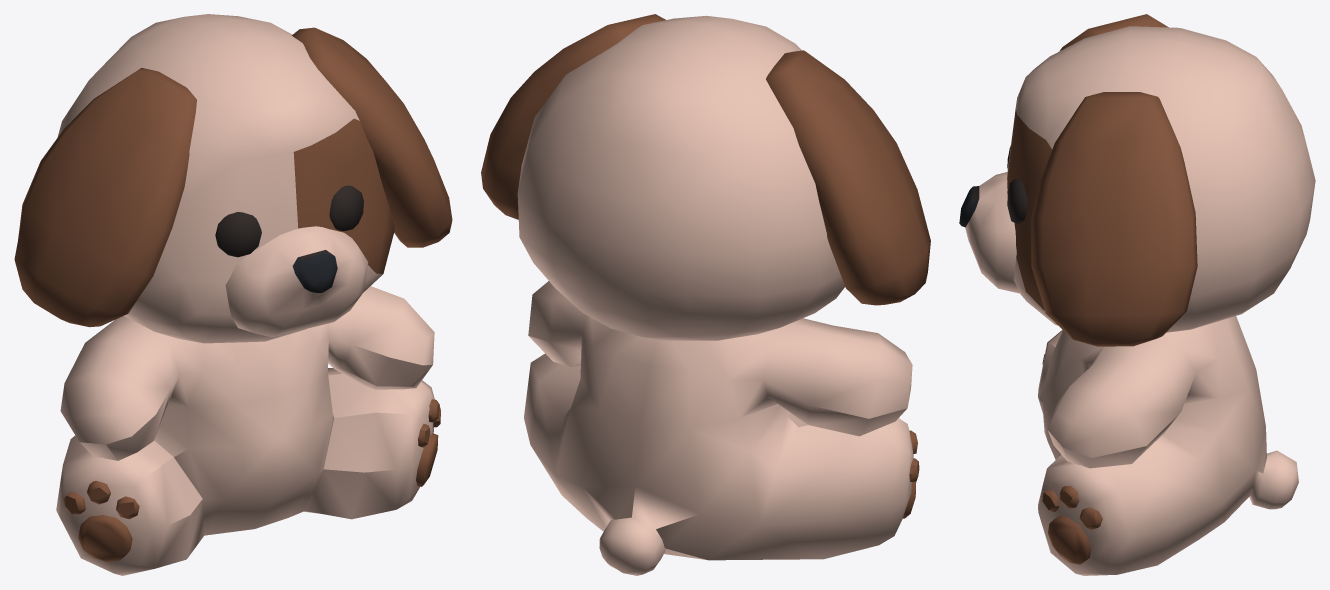
Rendered from pelucia_cachorro_pacote.glb.
The picture shows the model from 3 angles, left to right: view 1: azimuth 30°, elevation 25°; view 2: azimuth 150°, elevation 25°; view 3: azimuth 270°, elevation 25°; orthographic projection. The views are drawn at different scales.
Parts seen in each view (by area): view 1: pelucia_cachorro_pacote; view 2: pelucia_cachorro_pacote; view 3: pelucia_cachorro_pacote.
Part boxes in pixels (x1,y1,x2,y2): pelucia_cachorro_pacote: [14, 14, 452, 575]; pelucia_cachorro_pacote: [481, 14, 930, 575]; pelucia_cachorro_pacote: [959, 14, 1315, 575].
Bounding box in the file's own units: 0.3714 × 0.4307 × 0.2896.
Materials: 1 (1 with a texture image).
